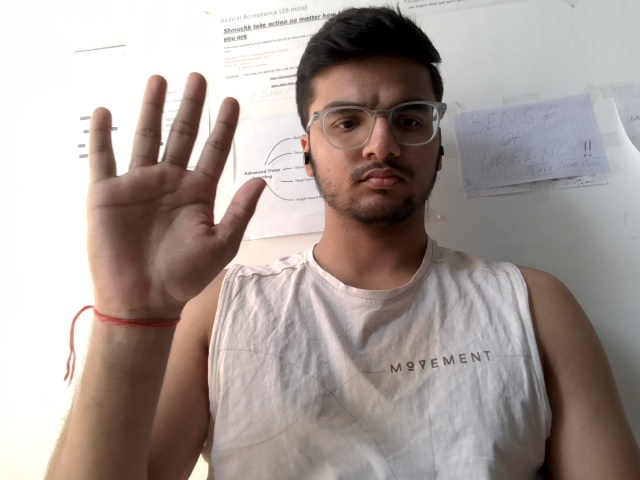Hello: (74, 57, 269, 386)
